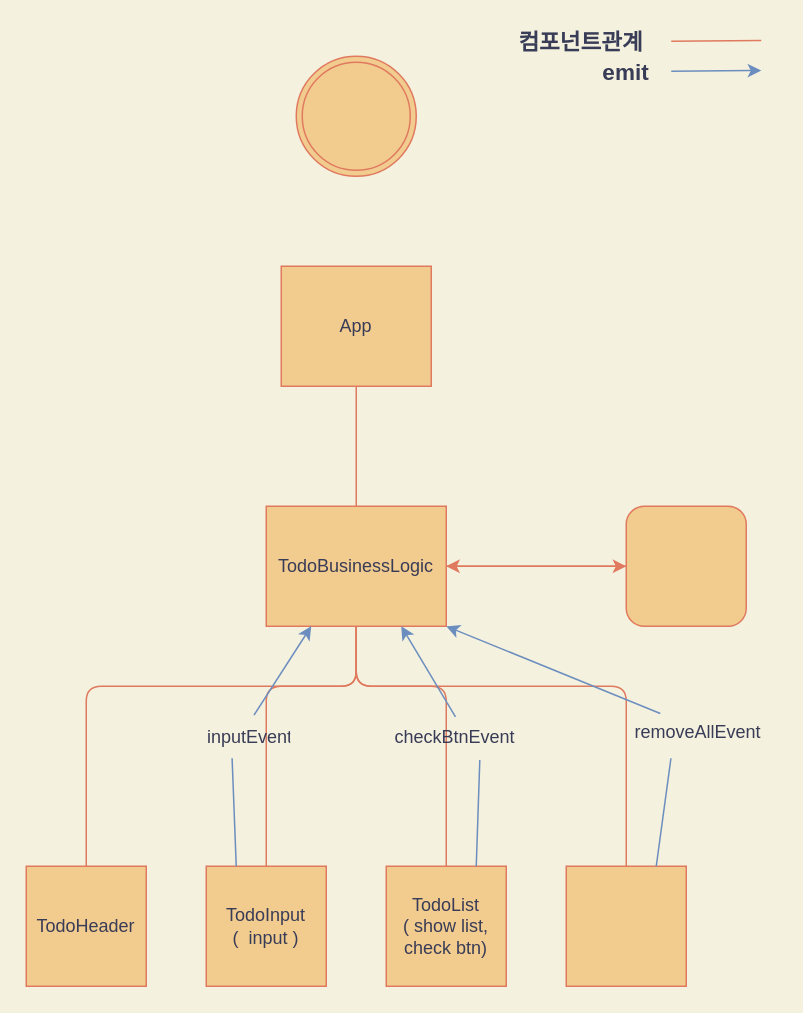
The diagram is 803 pixels wide and 1013 high, and some of its shapes have lost their labels. The centre of each missing label's shape, as x and y in pixels:
LocalStorage: the point at 685,565
TodoFooter ( remove all ): the point at 625,925
수정본: the point at 355,115
